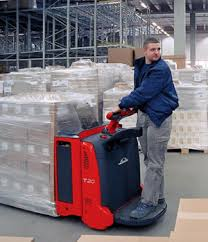Pallet Jack: (2, 92, 170, 230)
